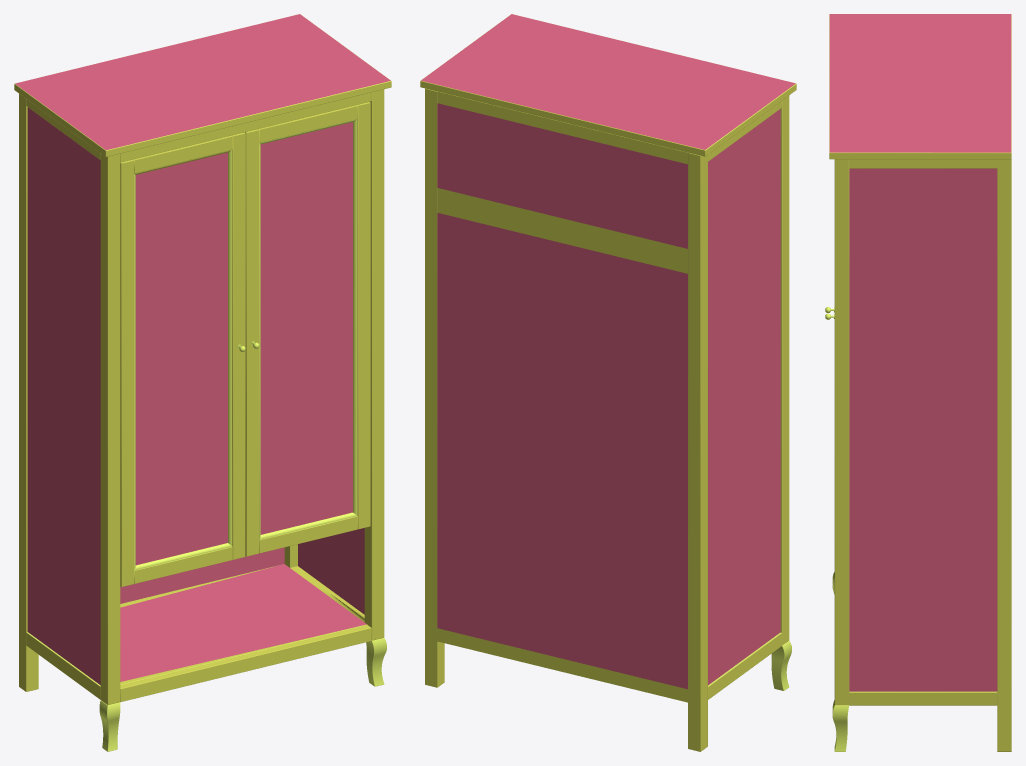
The model's file is dolap.fbx.
3 renders of one model, left to right at view 1: azimuth 30°, elevation 25°; view 2: azimuth 150°, elevation 25°; view 3: azimuth 270°, elevation 25°, orthographic.
Parts seen in each view (by area): view 1: vertical 01#3_004; view 2: vertical 01#3_004; view 3: vertical 01#3_004.
Part boxes in pixels (left/top/right/bottom): vertical 01#3_004: left=14, top=14, right=391, bottom=751; vertical 01#3_004: left=420, top=14, right=796, bottom=751; vertical 01#3_004: left=825, top=14, right=1011, bottom=751.
Bounding box in the file's own units: 0.9 × 1.82 × 0.5109.
